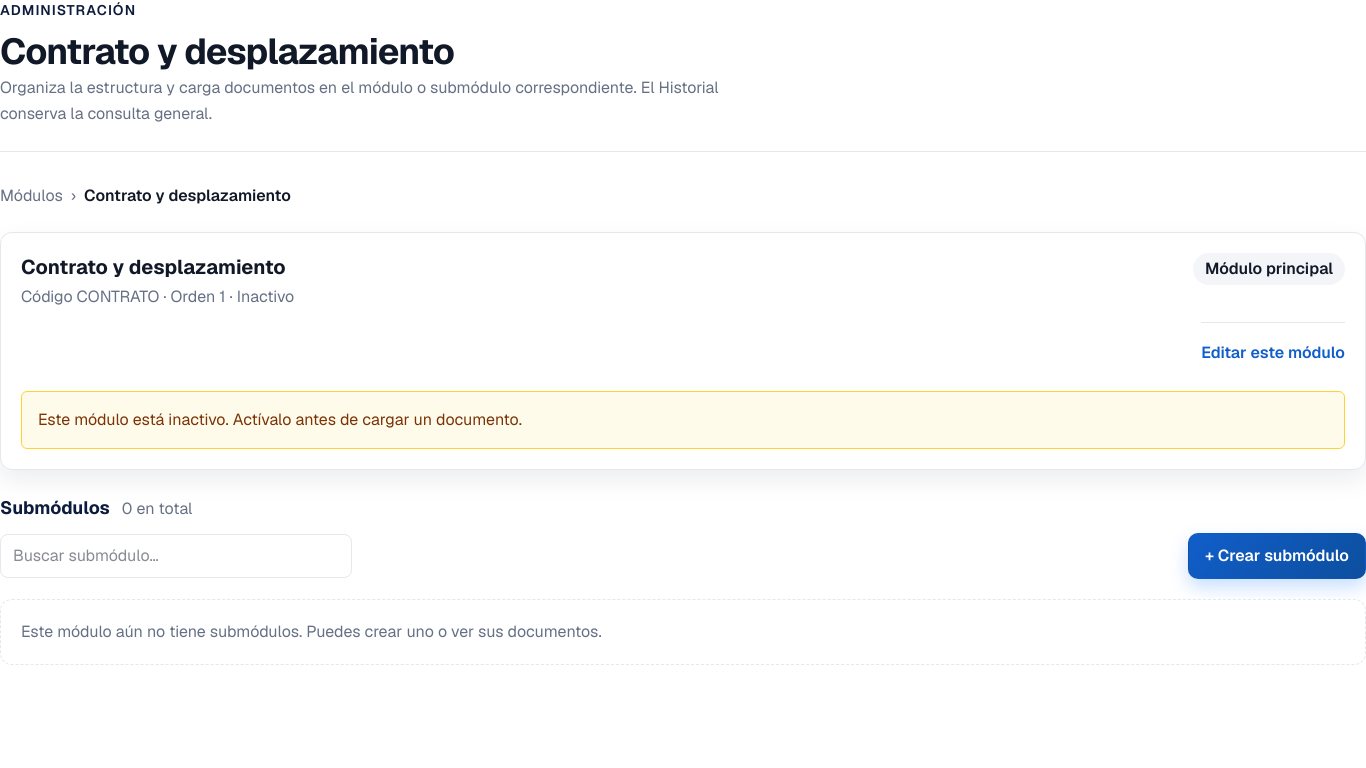
Test: página de un módulo: alta de submódulos › dentro de un módulo inactivo, el submódulo nuevo queda preseleccionado como inactivo
What coordinates should you click on to do the following:
click the button "+ Crear submódulo"
I would click on:
 (1277, 556)
Its box is x1=1188 y1=533 x2=1365 y2=579.
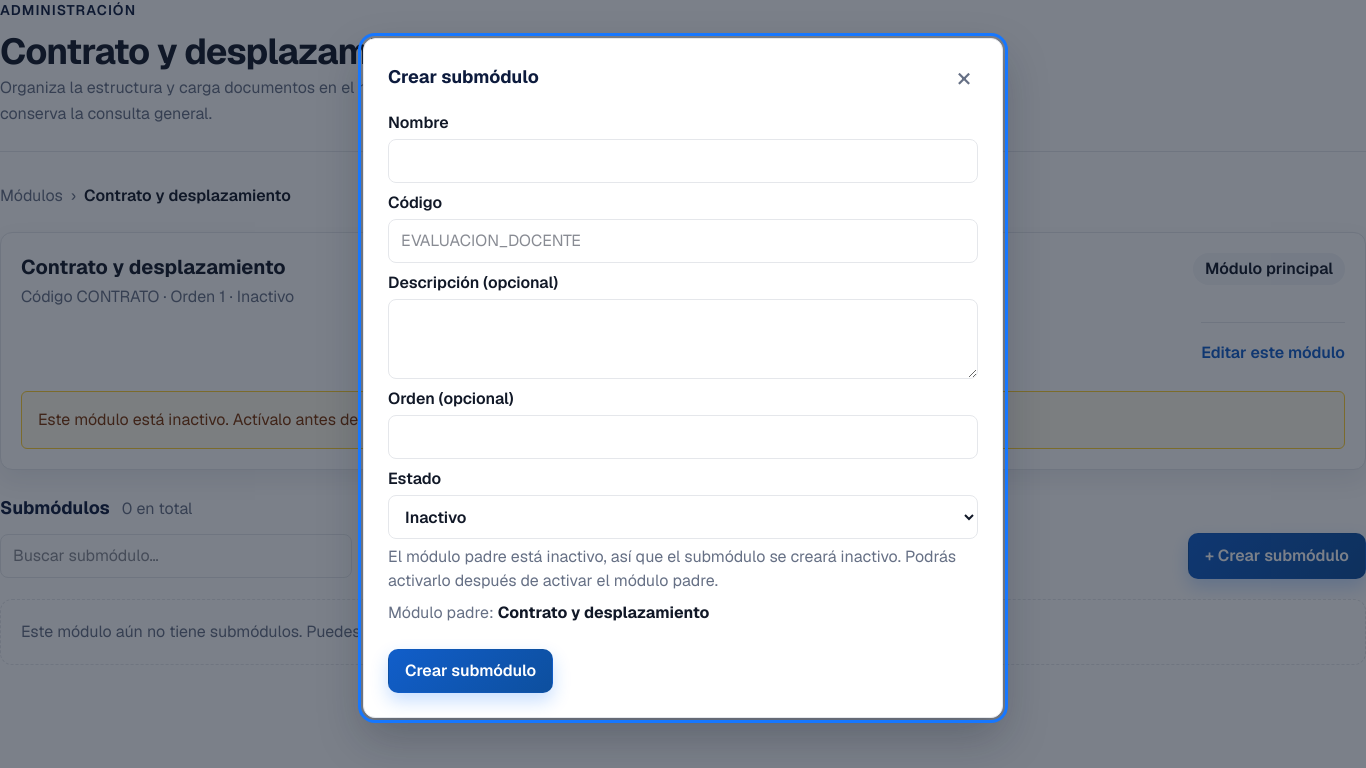
Check: the dropdown labelled "Estado" shows "Inactivo", box x1=388 y1=495 x2=978 y2=539
